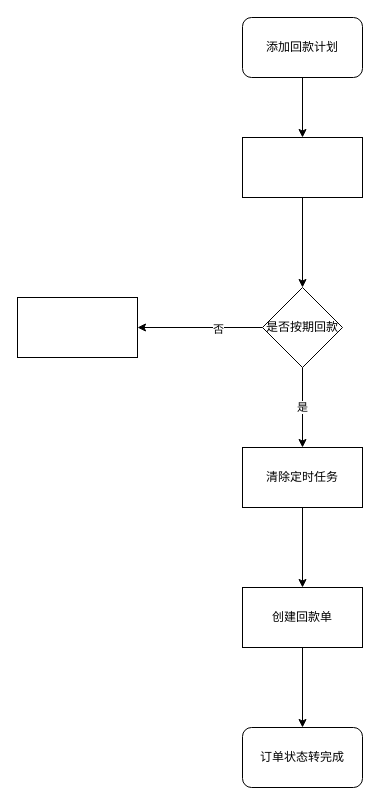
Some shapes in this 380 by 805 pixel diagram are drawn without their labels. The centre of each missing label's shape, as x and y in pixels:
"创建定时任务，发送到期提醒" belongs at [302,167].
"定时任务会发送到期提醒" belongs at [77,327].
